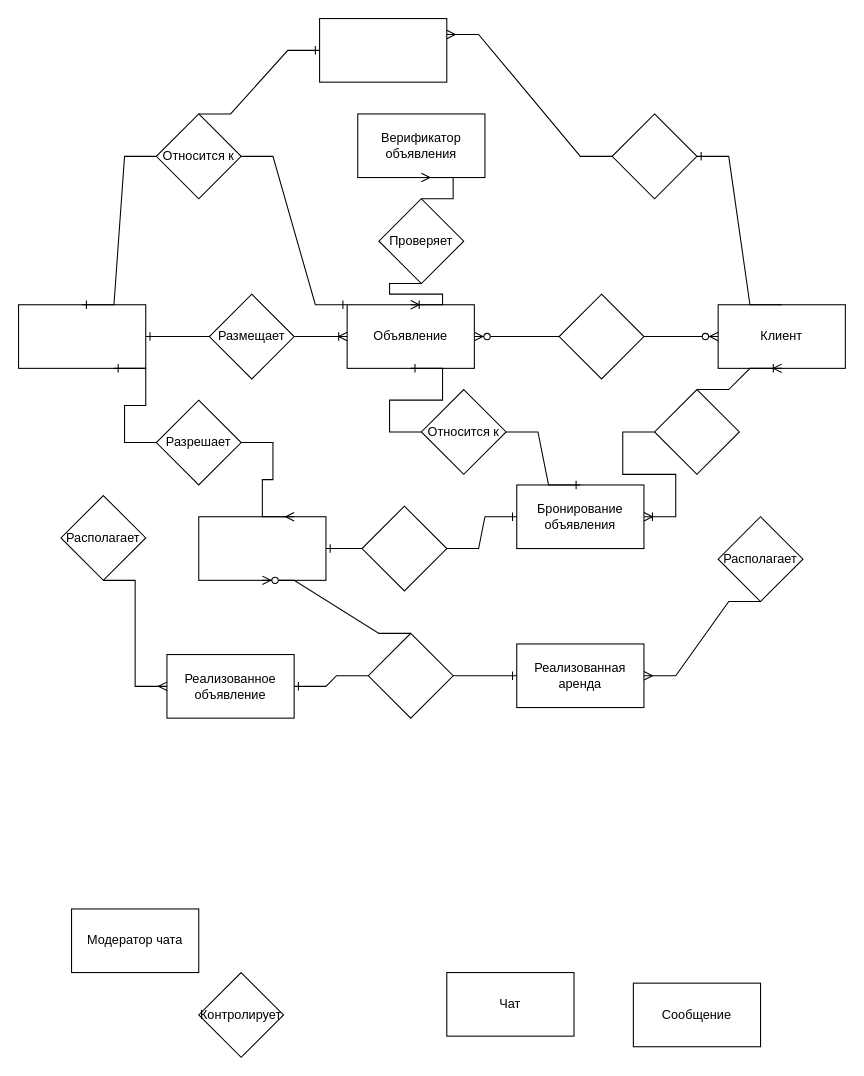
This 864x1076 diagram has some shape labels left out. Each missing label, with the box of its shape:
Арендодатель: (17, 304, 146, 368)
Запрашивает: (653, 388, 739, 474)
Запрос на обмен: (198, 516, 326, 580)
Оставляет: (611, 113, 697, 199)
Отзыв: (319, 17, 447, 82)
Откликается: (558, 293, 644, 379)
Отправляется: (367, 632, 453, 718)
Формирует: (361, 505, 447, 591)
